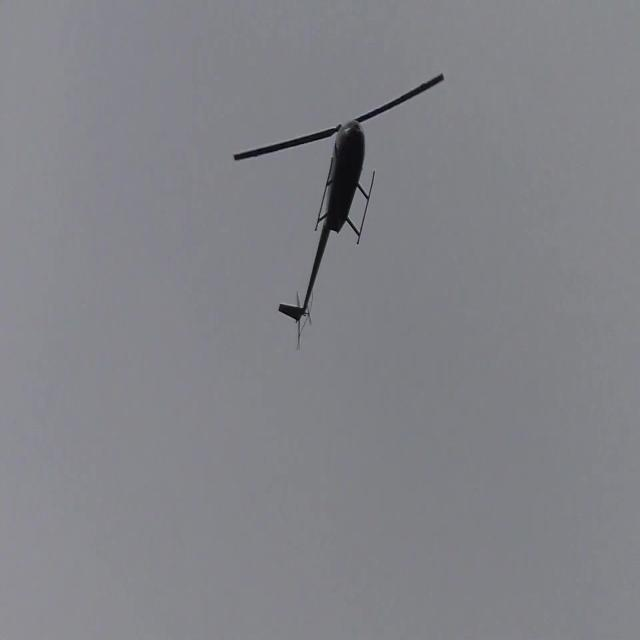CIV_HELO: (278, 113, 377, 327)
